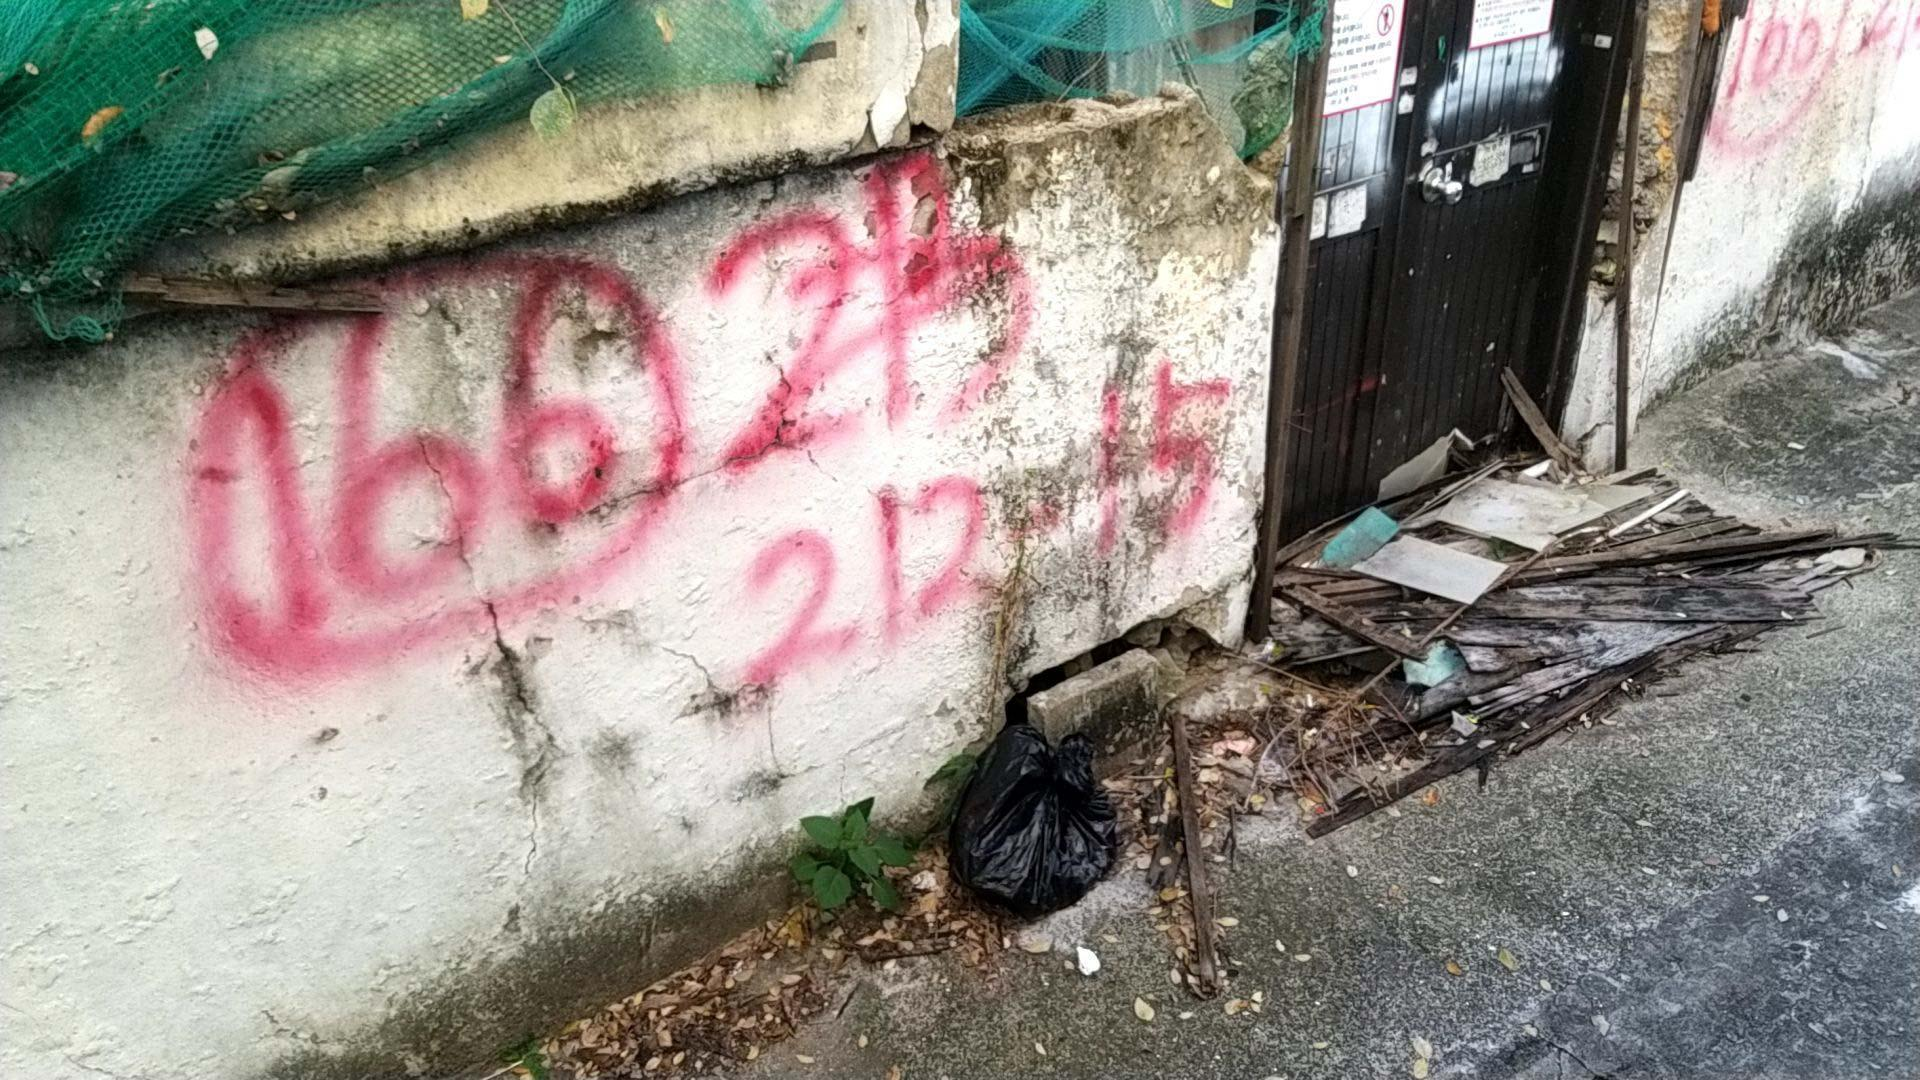black_bag: (924, 699, 1130, 922)
